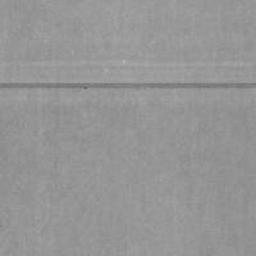Welding line: (0, 81, 256, 90)
